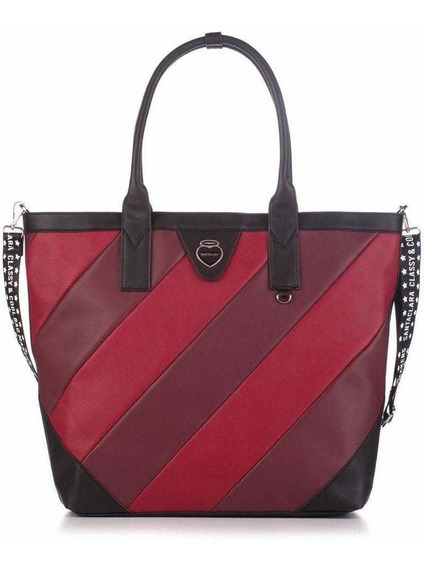cartera: (3, 31, 424, 521)
